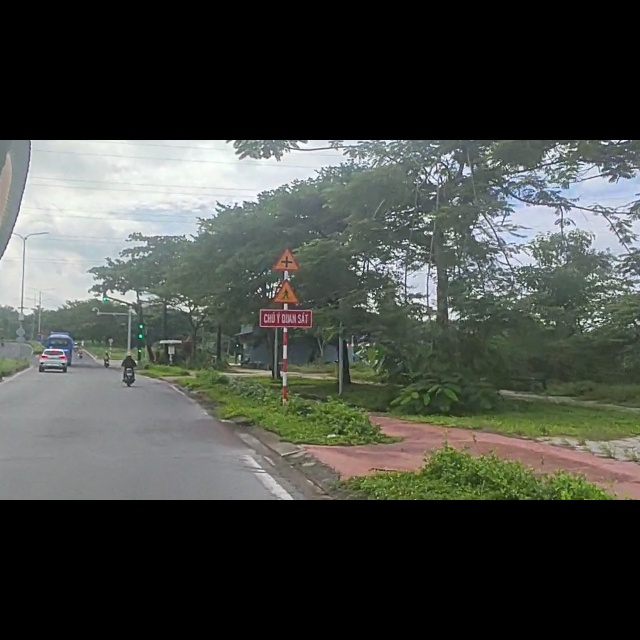bien_nguy_hiem: (269, 247, 302, 293), (271, 191, 300, 235)
